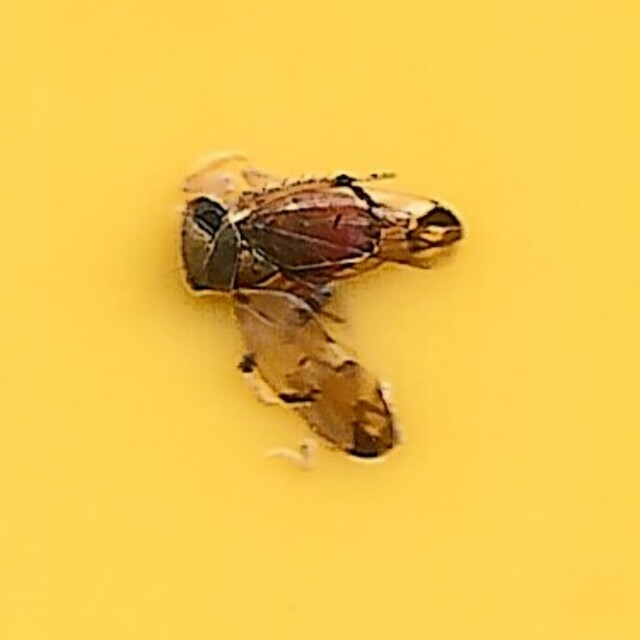Hemiptera: (171, 169, 469, 471)
